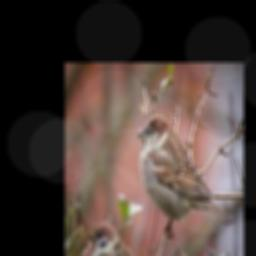Sparrow: (136, 114, 233, 236)
